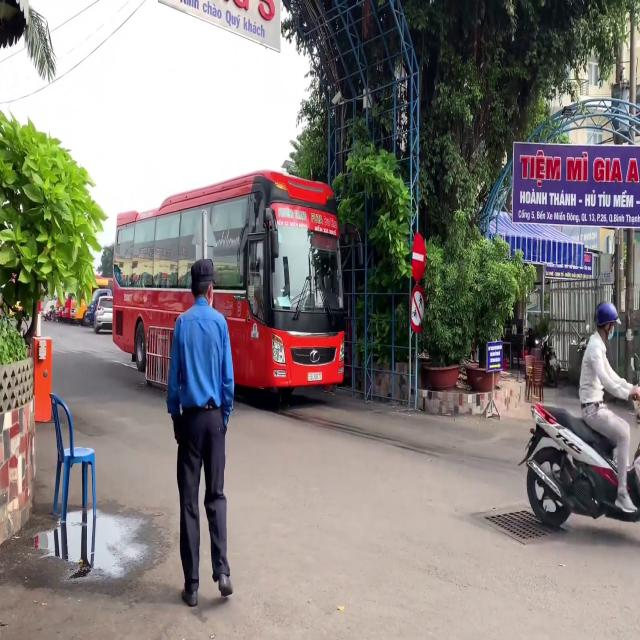bien_trang: (307, 371, 322, 381)
